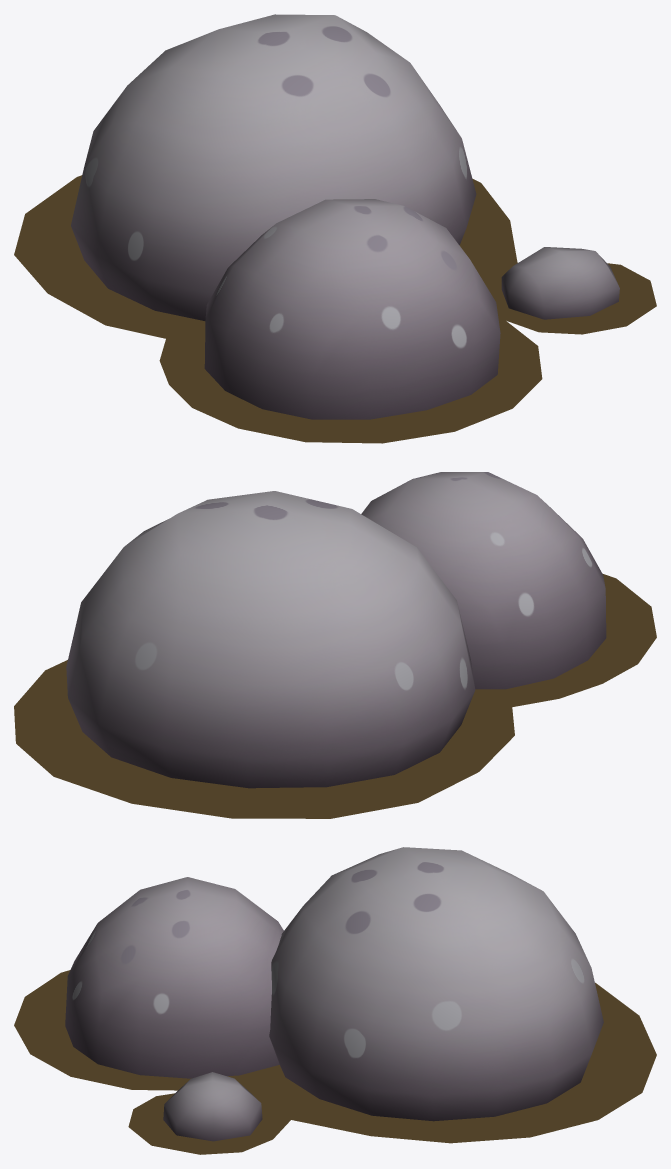
Rendered from Mu_Rock01.fbx.
3 renders of one model, top to bottom at view 1: azimuth 30°, elevation 25°; view 2: azimuth 150°, elevation 25°; view 3: azimuth 270°, elevation 25°, orthographic. The views are drawn at different scales.
Parts seen in each view (by area): view 1: Mu_Rock01, Mu_Rock01_shadow; view 2: Mu_Rock01, Mu_Rock01_shadow; view 3: Mu_Rock01, Mu_Rock01_shadow.
Boxes of the visible parts, bbox=[...] form: Mu_Rock01: bbox=[71, 14, 619, 419]; Mu_Rock01_shadow: bbox=[14, 175, 656, 443]; Mu_Rock01: bbox=[66, 472, 606, 788]; Mu_Rock01_shadow: bbox=[14, 574, 656, 818]; Mu_Rock01: bbox=[65, 847, 603, 1141]; Mu_Rock01_shadow: bbox=[14, 970, 656, 1154].
Size of the model in its own units: 81.49 by 34.39 by 109.
Materials: 2 (1 with a texture image).
